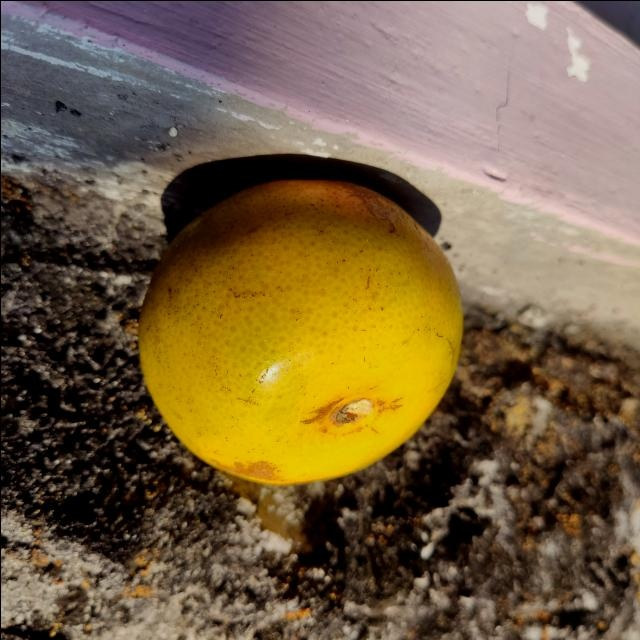agrume: (137, 175, 471, 489)
